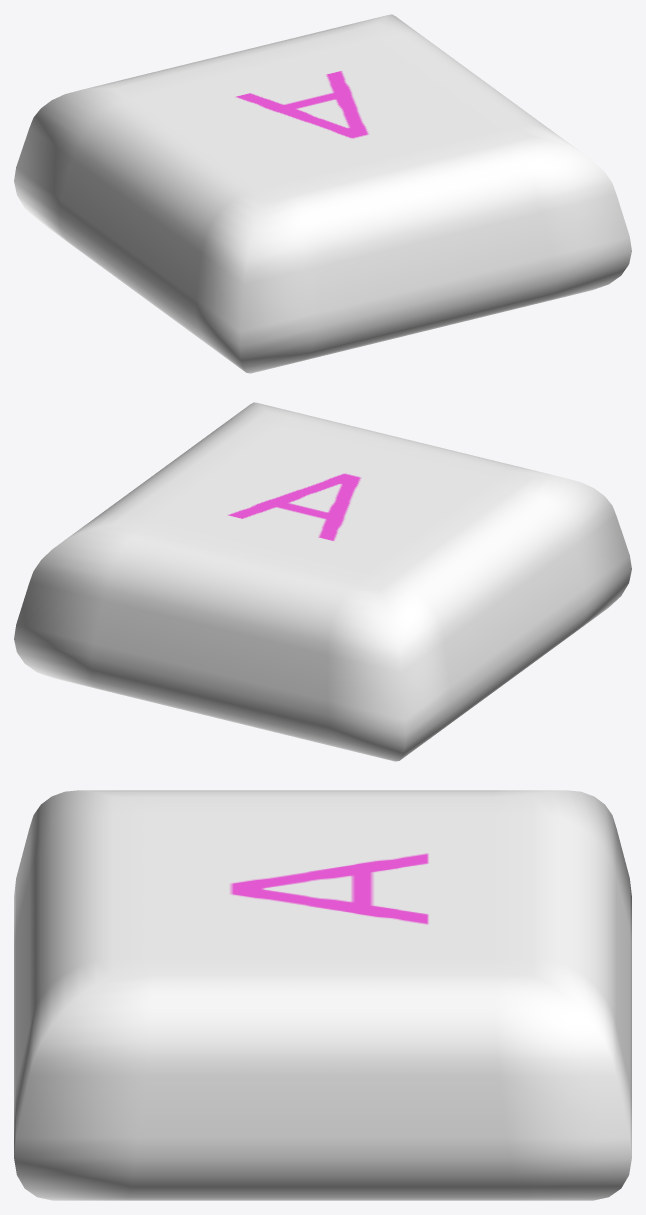
File: a-key.glb
The picture shows the model from 3 angles, top to bottom: view 1: azimuth 30°, elevation 25°; view 2: azimuth 150°, elevation 25°; view 3: azimuth 270°, elevation 25°; orthographic projection. The views are drawn at different scales.
Parts seen in each view (by area): view 1: Cube; view 2: Cube; view 3: Cube.
Part boxes in pixels (bbox=[...]): Cube: bbox=[14, 14, 631, 373]; Cube: bbox=[14, 402, 631, 761]; Cube: bbox=[14, 790, 631, 1200].
Size of the model in its own units: 1.26 by 0.4716 by 1.26.
Materials: 1 (1 with a texture image).
